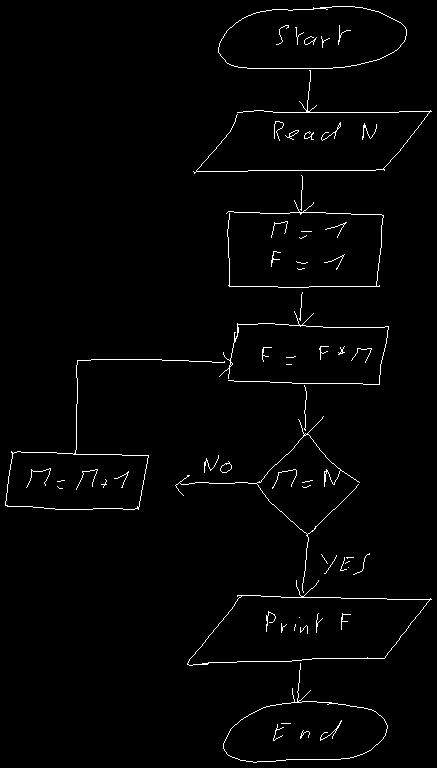arrow: (74, 352, 232, 454), (175, 475, 259, 495), (296, 535, 318, 596), (298, 385, 323, 435), (294, 175, 313, 214), (299, 70, 316, 112), (292, 663, 310, 702), (294, 292, 313, 326)
data: (187, 595, 431, 665), (193, 110, 431, 173)
decision: (257, 433, 359, 534)
process: (226, 211, 383, 287), (228, 323, 388, 384), (5, 451, 148, 509)
terminator: (218, 6, 406, 68), (223, 701, 387, 762)
text: (271, 221, 346, 269), (26, 468, 128, 489), (262, 346, 371, 364), (274, 121, 376, 140), (266, 611, 350, 633), (276, 25, 350, 47), (273, 720, 341, 740), (272, 469, 340, 488), (321, 553, 369, 574), (204, 455, 231, 472)
